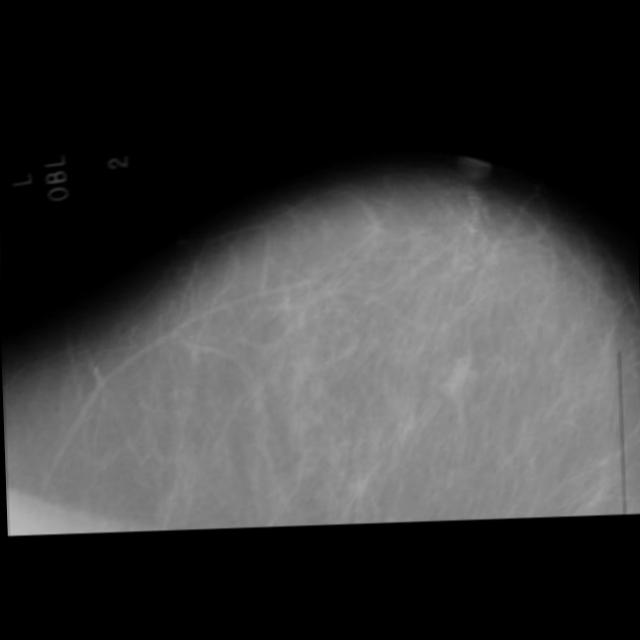ASYM: (434, 356, 478, 400)
